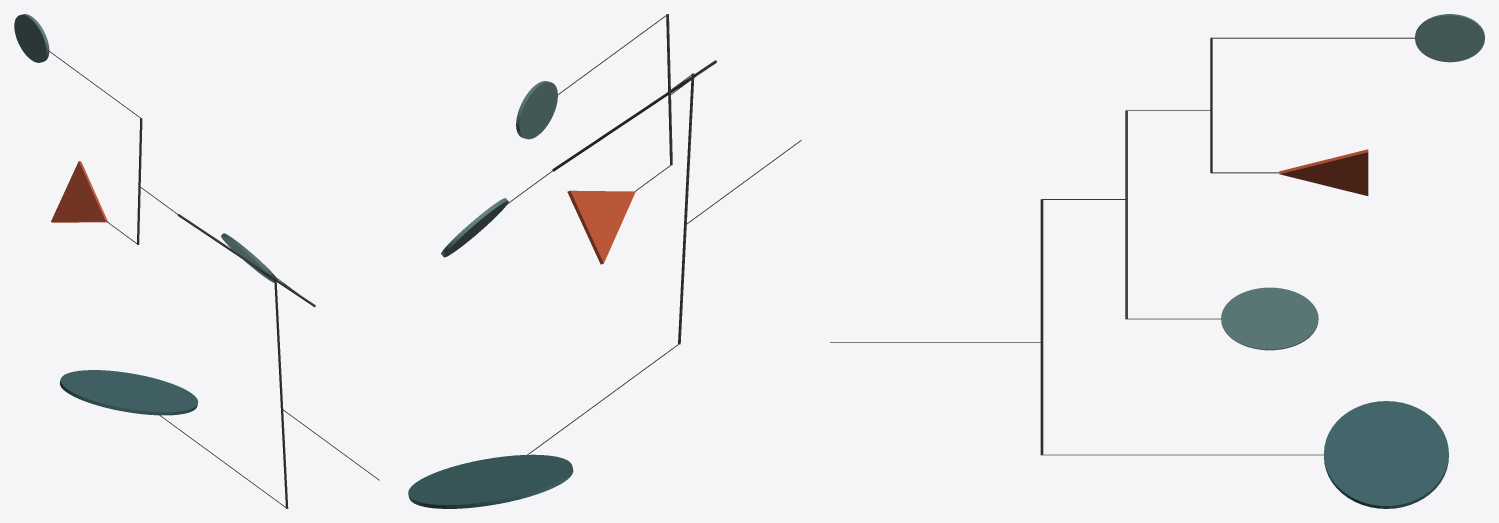
The model's file is The-Lighter-Side.obj.
3 views of the same model, side by side, from view 1: azimuth 30°, elevation 25°; view 2: azimuth 150°, elevation 25°; view 3: azimuth 270°, elevation 25° (orthographic). The views are drawn at different scales.
Visible parts, largest first — view 1: part_07, part_11, part_13, part_01, part_09, part_03; view 2: part_07, part_11, part_13, part_09, part_01, part_03, part_05; view 3: part_07, part_09, part_13, part_11, part_01.
Boxes of the visible parts, x1,y1,x2,y2 form: part_07: [59, 370, 198, 415]; part_11: [51, 161, 107, 222]; part_13: [14, 14, 49, 62]; part_01: [274, 282, 288, 508]; part_09: [221, 233, 277, 282]; part_03: [177, 214, 315, 307]; part_07: [408, 454, 573, 508]; part_11: [567, 190, 635, 264]; part_13: [516, 81, 557, 139]; part_09: [441, 198, 508, 257]; part_01: [678, 73, 694, 344]; part_03: [552, 60, 716, 171]; part_05: [666, 14, 672, 165]; part_07: [1324, 401, 1448, 508]; part_09: [1221, 287, 1318, 350]; part_13: [1415, 14, 1484, 62]; part_11: [1279, 149, 1368, 195]; part_01: [1040, 199, 1043, 455].
Bounding box in the file's own units: 2.02 × 4.42 × 6.18.
